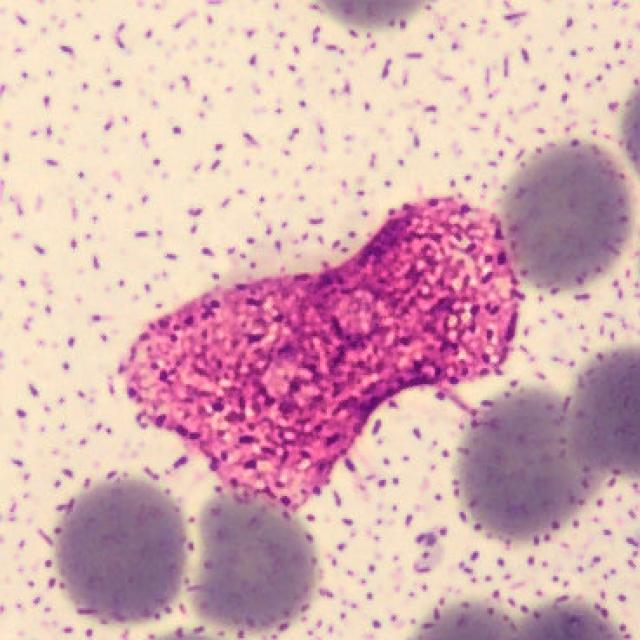Restos celulares: (118, 197, 525, 519)
